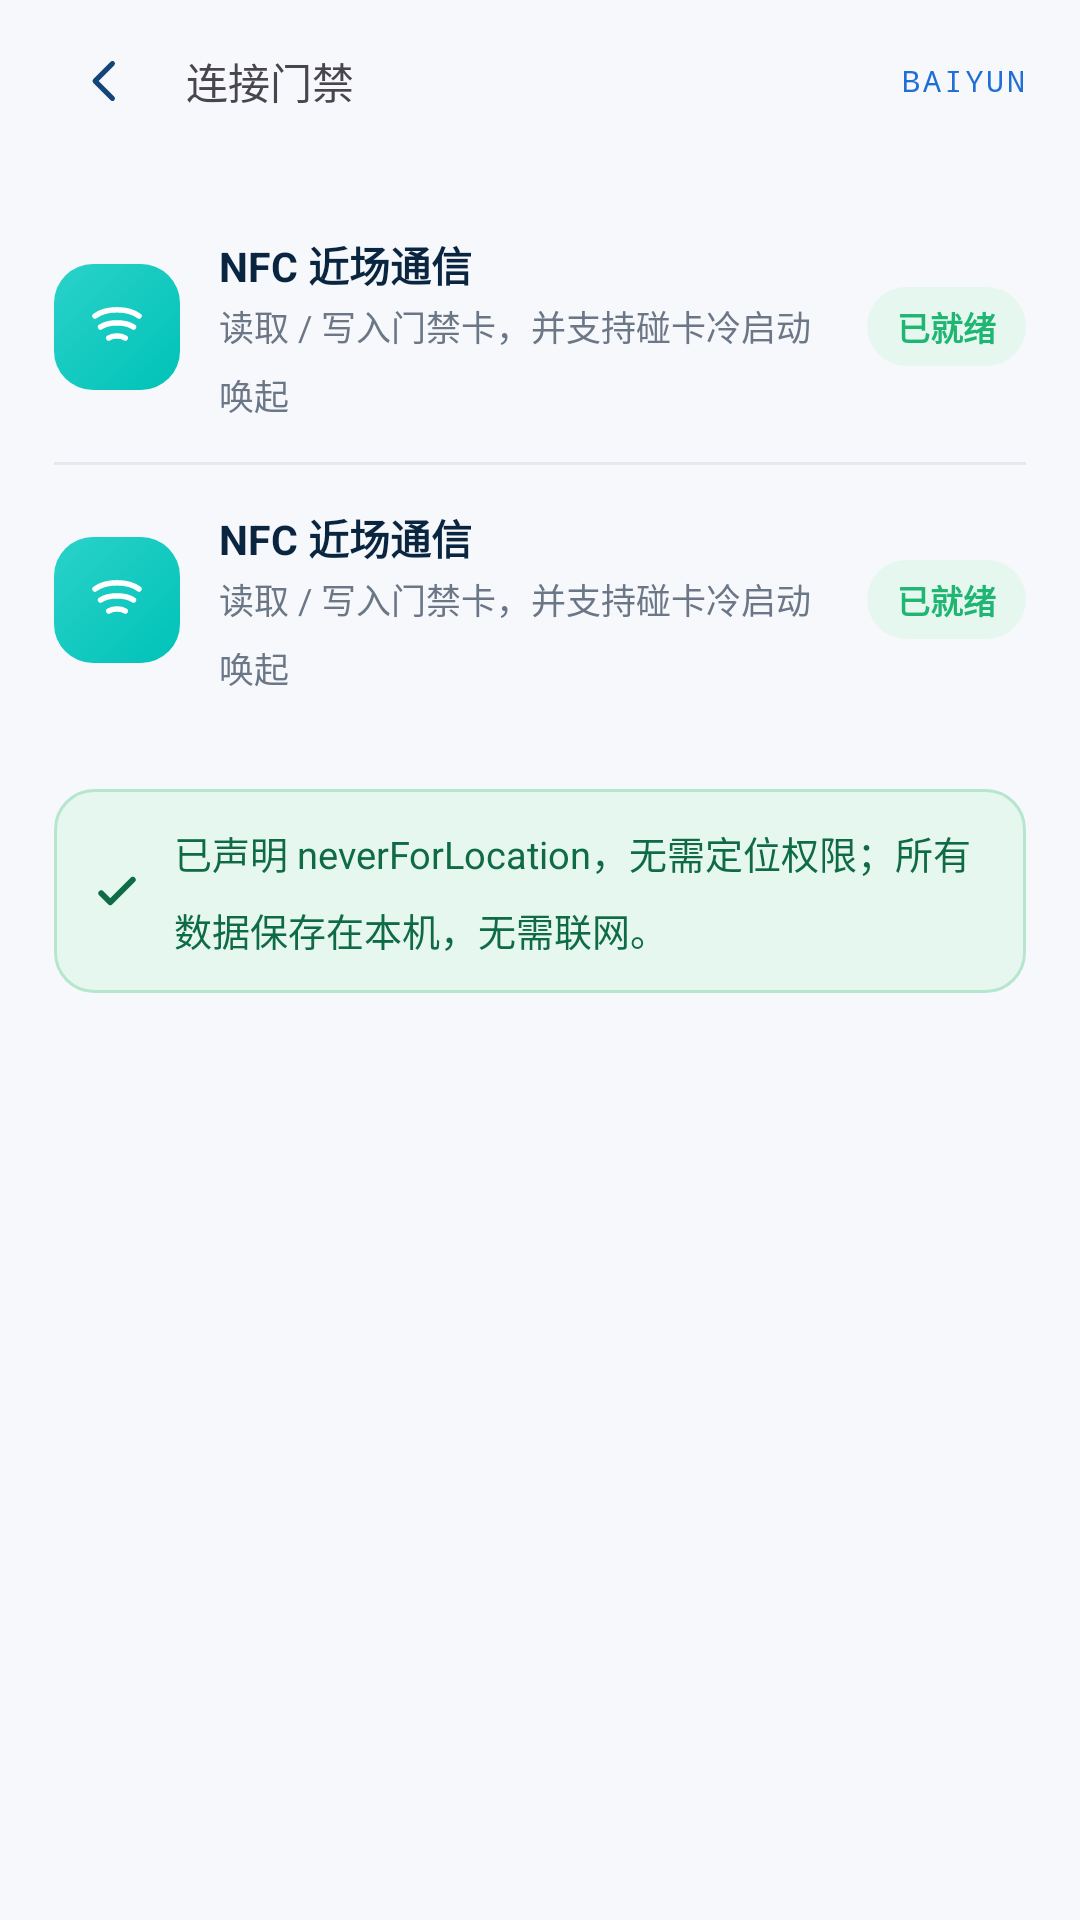

Screen size 1080 × 1920. Icon name, then its box in pixels as (x1, y1, x2, y2):
check: (98, 876, 136, 906)
返回: (92, 61, 115, 101)
